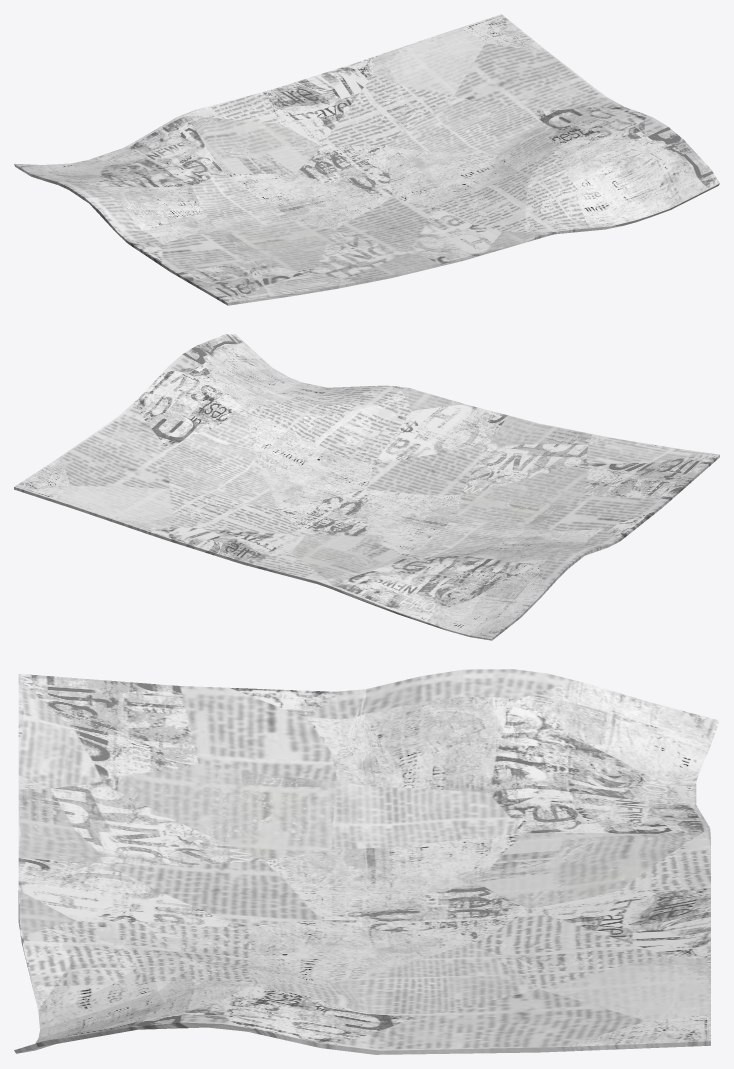
The model's file is JornalPapel.fbx.
3 renders of one model, top to bottom at view 1: azimuth 30°, elevation 25°; view 2: azimuth 150°, elevation 25°; view 3: azimuth 270°, elevation 25°, orthographic. The views are drawn at different scales.
Parts seen in each view (by area): view 1: Plane; view 2: Plane; view 3: Plane.
Boxes of the visible parts, x1,y1,x2,y2 form: Plane: [14, 14, 719, 305]; Plane: [14, 334, 719, 640]; Plane: [14, 669, 719, 1054].
Size of the model in its own units: 287 by 29.9 by 224.
